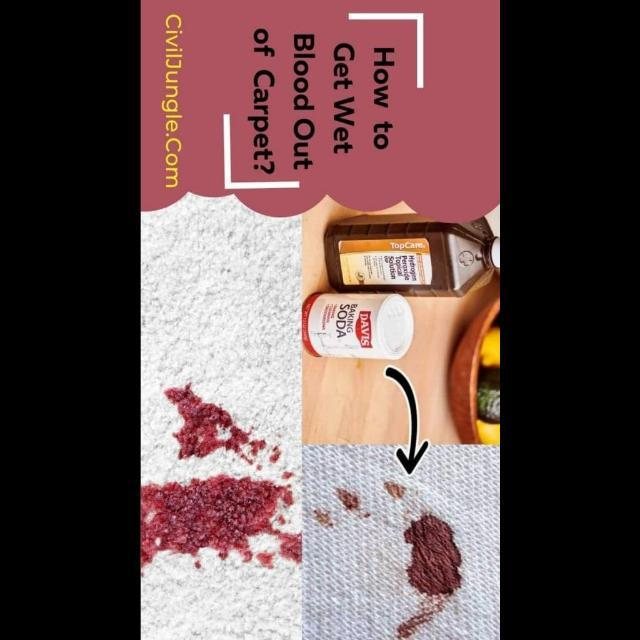blood: (141, 474, 302, 568), (164, 381, 251, 460), (403, 513, 463, 602), (333, 486, 358, 511), (384, 482, 408, 499)
